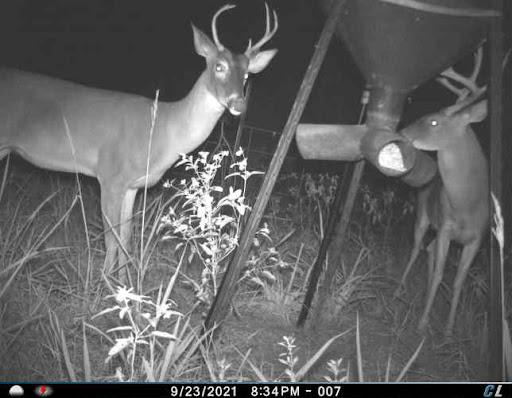Deer: (0, 0, 287, 293), (395, 42, 512, 352)
